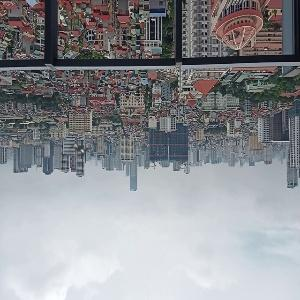drone: (51, 120, 108, 177)
